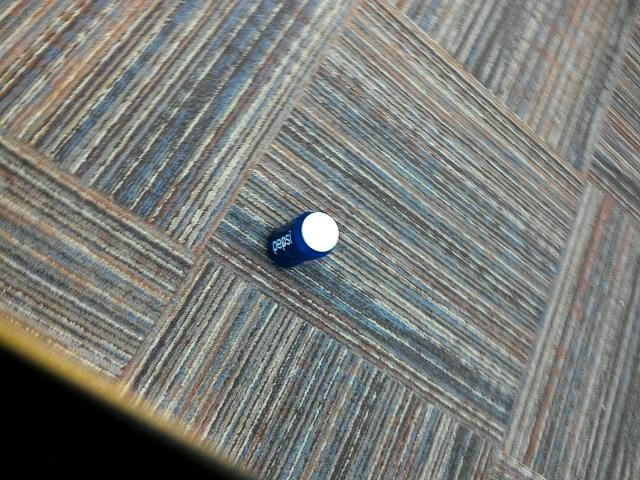can: (265, 197, 340, 273)
